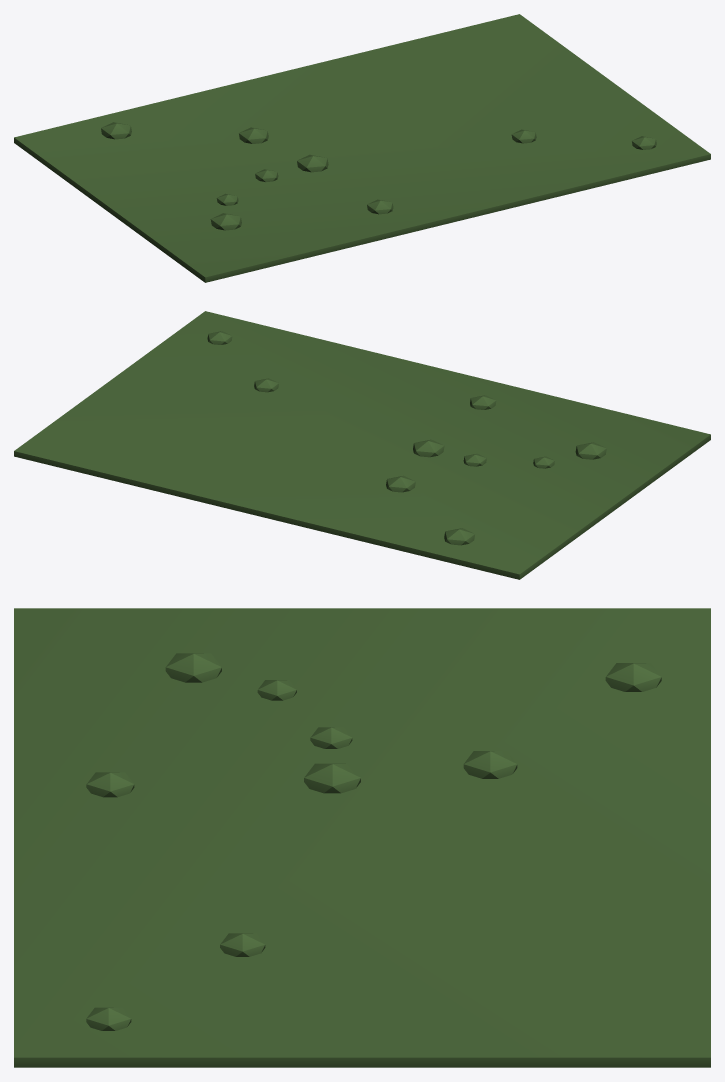
The model's file is struct_native_lawn_patch.glb.
3 renders of one model, top to bottom at view 1: azimuth 30°, elevation 25°; view 2: azimuth 150°, elevation 25°; view 3: azimuth 270°, elevation 25°, orthographic. The views are drawn at different scales.
Visible parts, largest first — view 1: turf; view 2: turf; view 3: turf.
Part boxes in pixels (x1,y1,x2,y2): turf: (14, 14, 710, 282); turf: (14, 311, 710, 579); turf: (14, 608, 710, 1067).
Bounding box in the file's own units: 5.8 × 0.2133 × 3.8.
